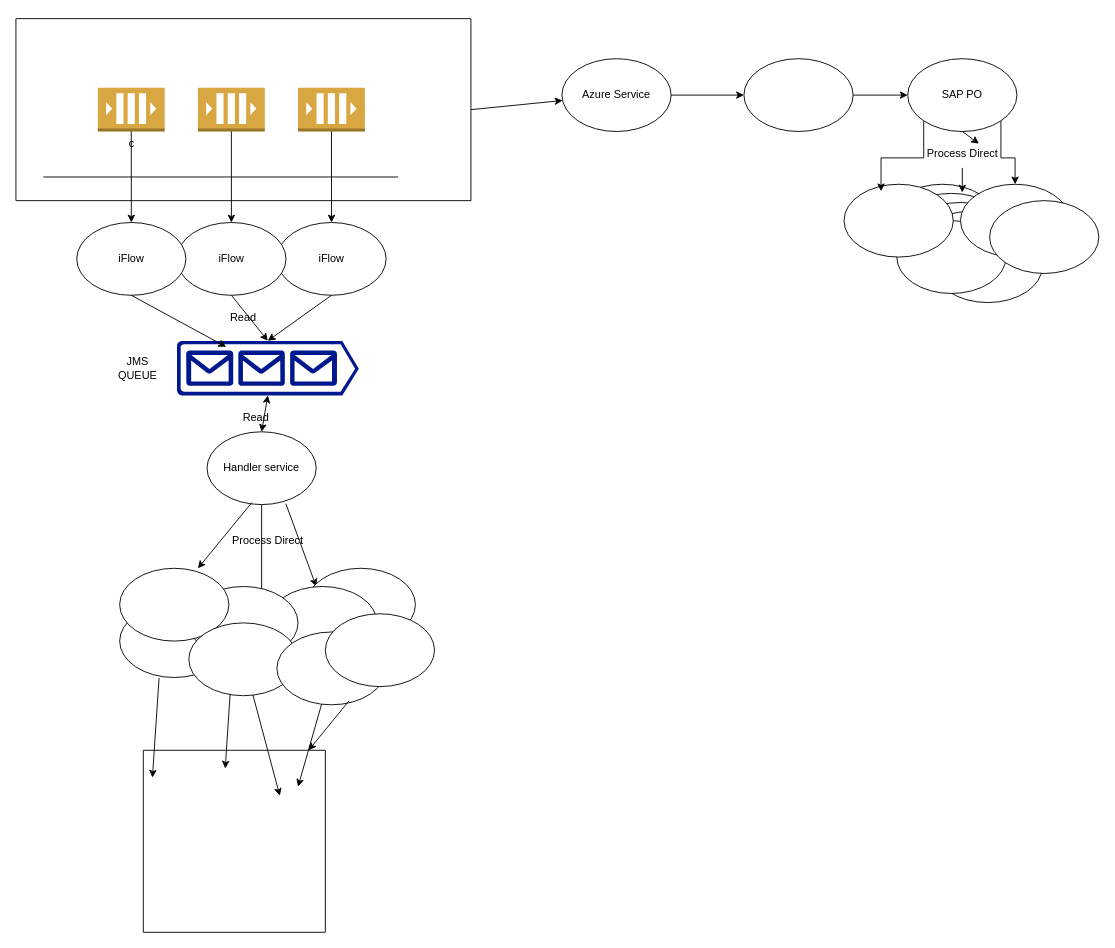
Some shapes in this 1115 by 948 pixel diagram are drawn without their labels. Here are the shapes that lost their labels. From the top down, the centre of each, then its label:
the point at 243,109: Azure Queues Dev
the point at 798,94: SCI Handler
the point at 233,840: SAP QS4 Client: 200
